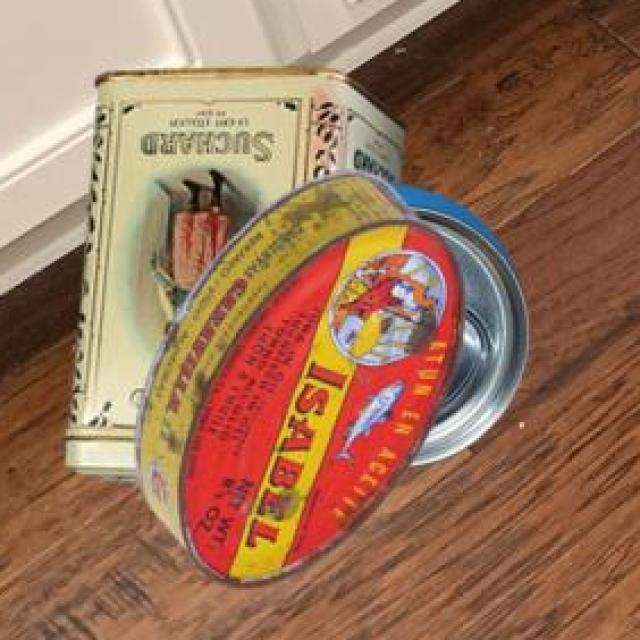logam: (62, 65, 403, 480), (133, 167, 462, 584), (386, 180, 525, 464)
